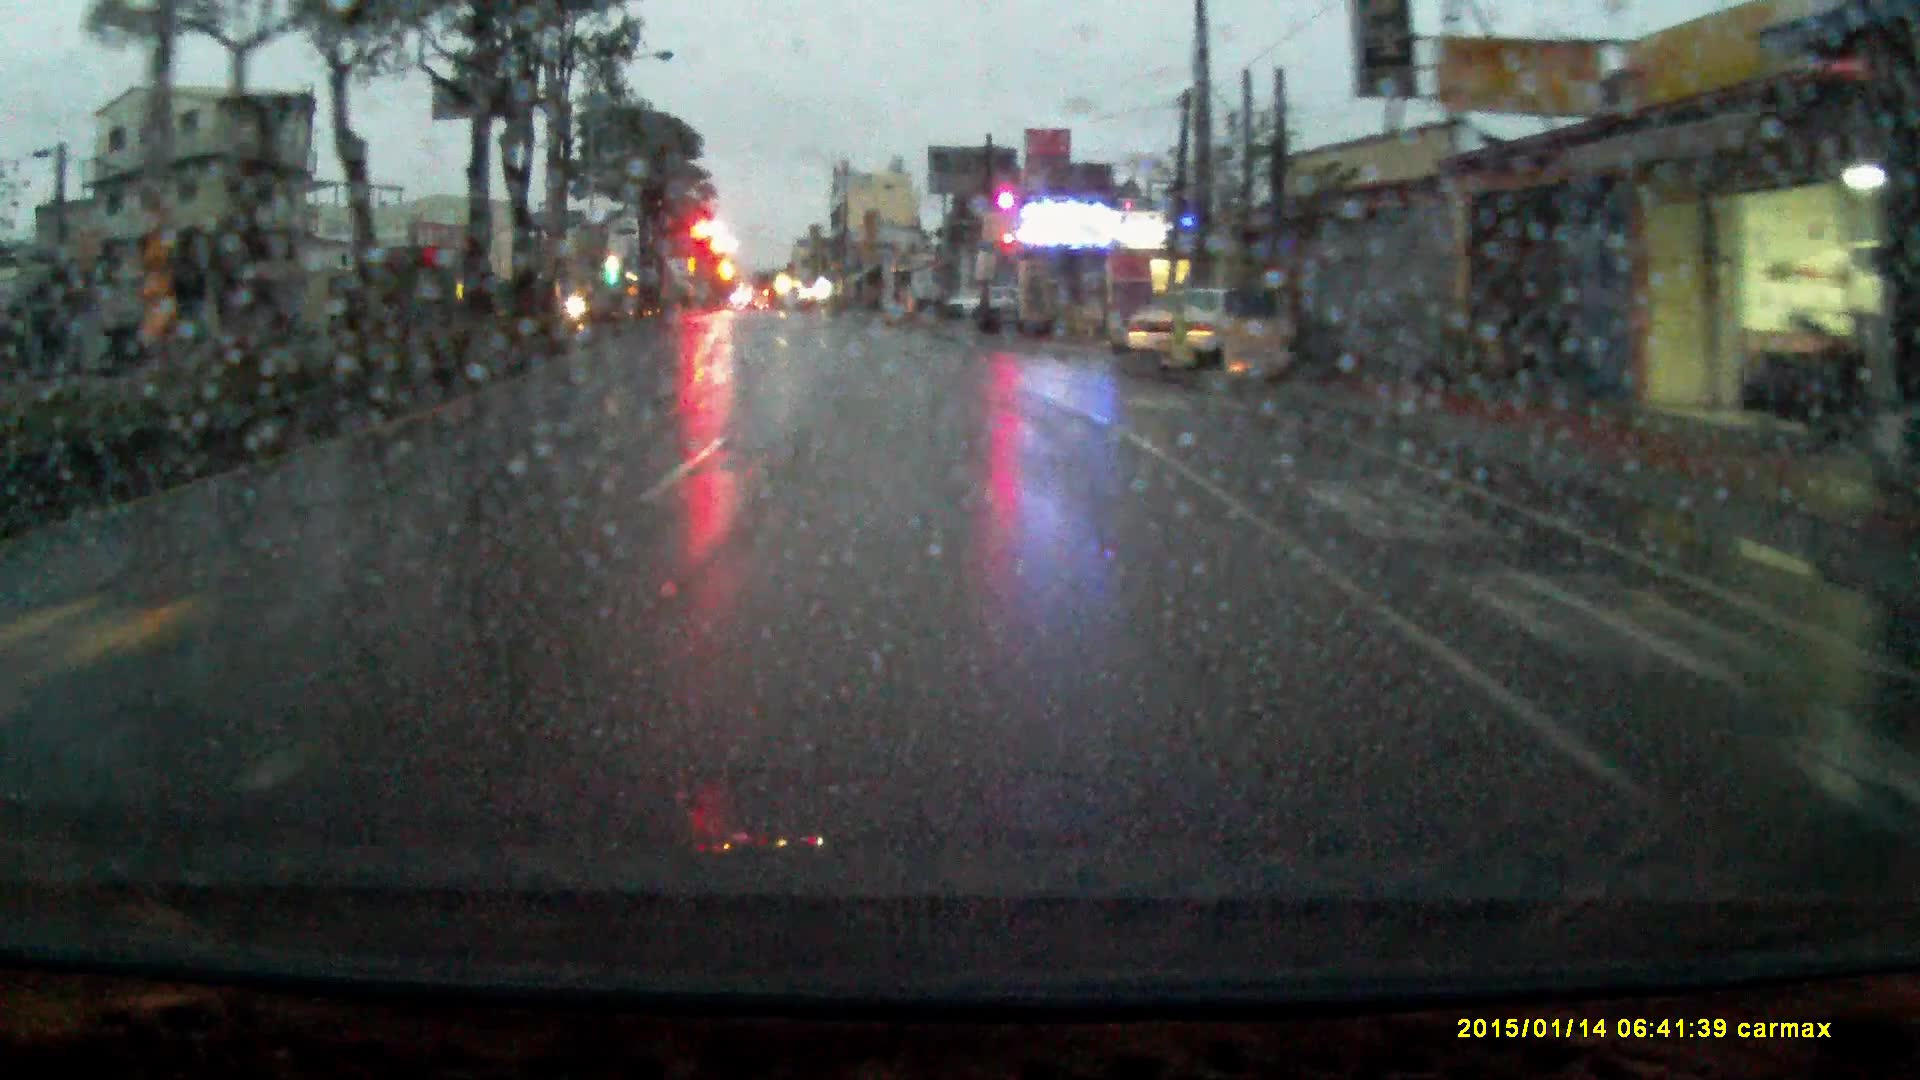vehicle: (1135, 291, 1286, 384), (947, 284, 1026, 320)
